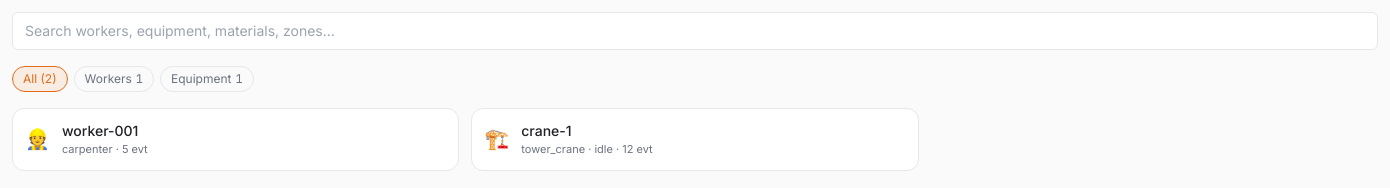
RecordDirectory › filters by search text
Expected: the text "worker-001" is shown, [62,122,138,139]
Type "crane" into the field with placeholder "Search workers, equipment, materials, zones…" at (695, 31), box [12,12,1378,50]
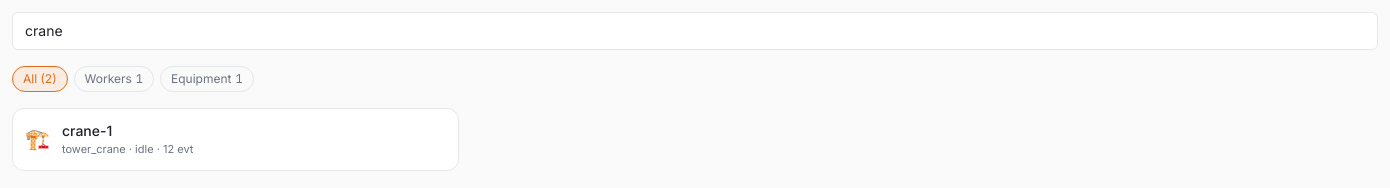
Expected: the text "crane-1" is shown, [62,122,112,139]
Now the button "worker-001" is gone
